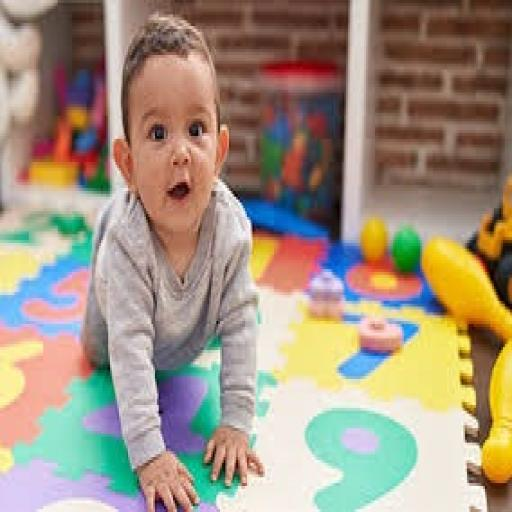baby: (82, 15, 263, 511)
